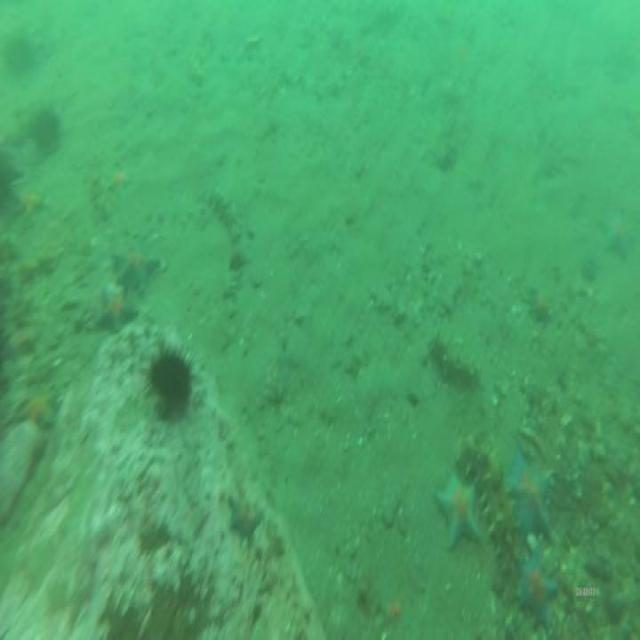echinus: (150, 345, 190, 414), (28, 101, 62, 163), (5, 32, 38, 74)
holothurian: (456, 440, 525, 598), (205, 182, 247, 272), (430, 324, 478, 382)
starfish: (502, 450, 556, 540), (436, 468, 481, 553), (515, 556, 558, 626), (97, 280, 139, 338), (116, 242, 160, 294), (600, 207, 637, 262), (23, 386, 56, 434), (528, 278, 555, 326), (15, 188, 44, 226)
